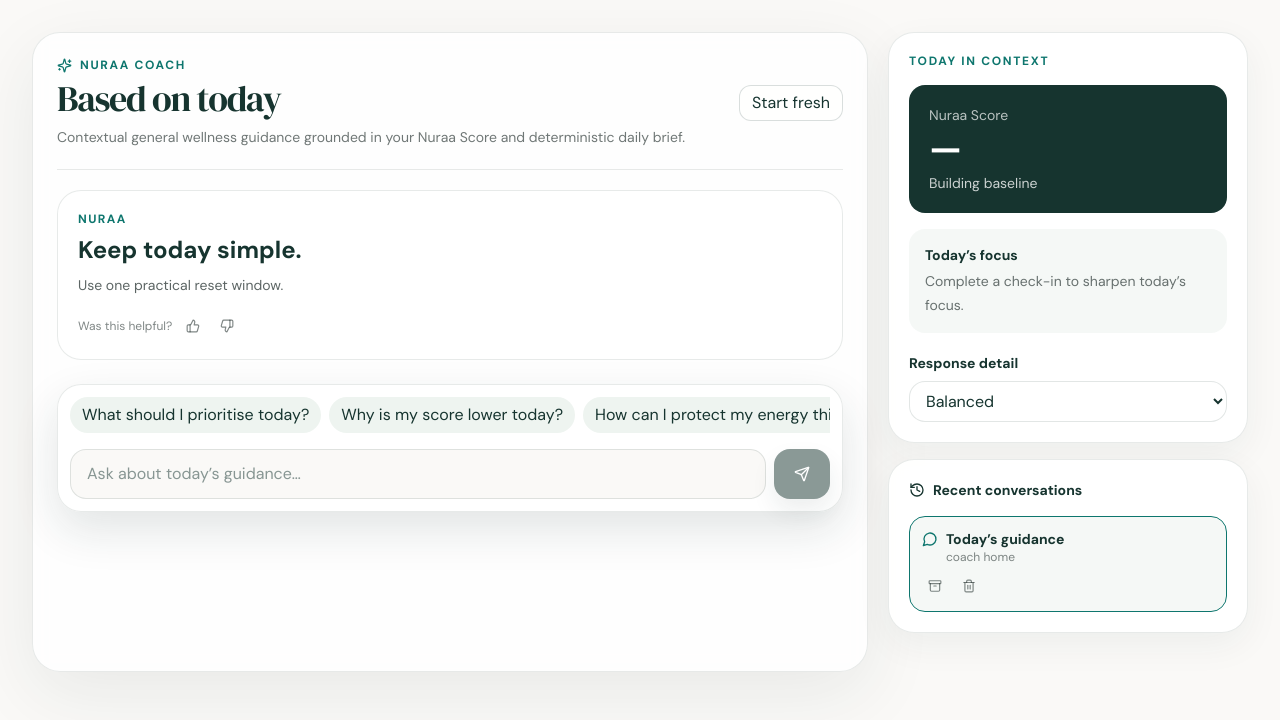
CoachPage access and consent › sends typed follow-ups against the active conversation
Expected: the heading "Keep today simple." is shown, [78,234,302,265]
In the text box named "ask nuraa coach": (418, 474) [70,449,766,499], type "How should I plan my evening?"
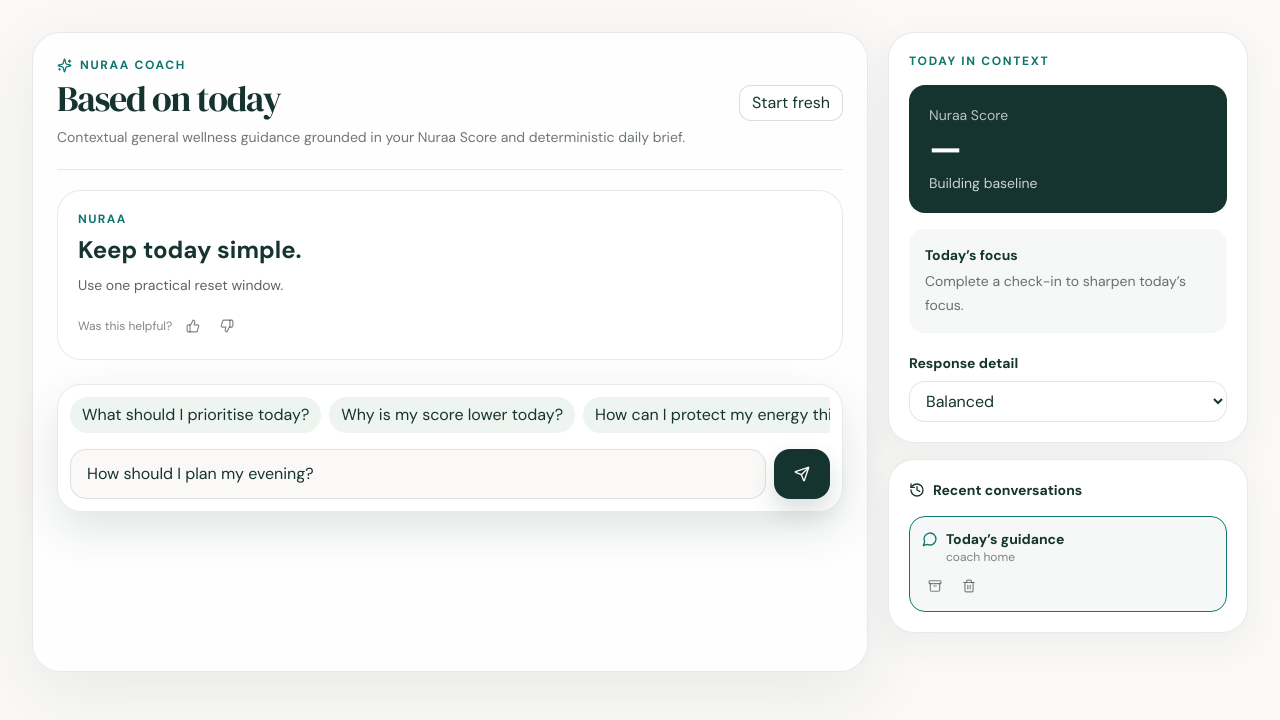
Click the button named "send message": (802, 474) [774,449,830,499]
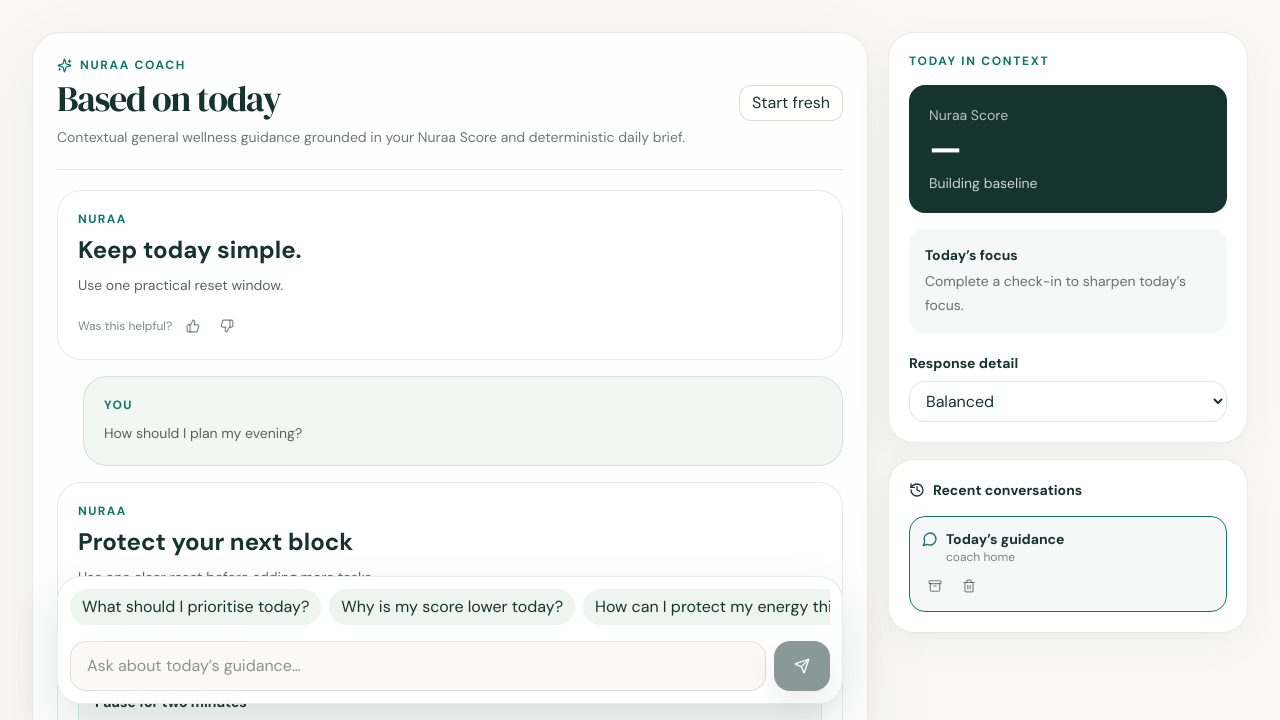
Expected: the heading "Protect your next block" is shown, [78,526,353,557]
